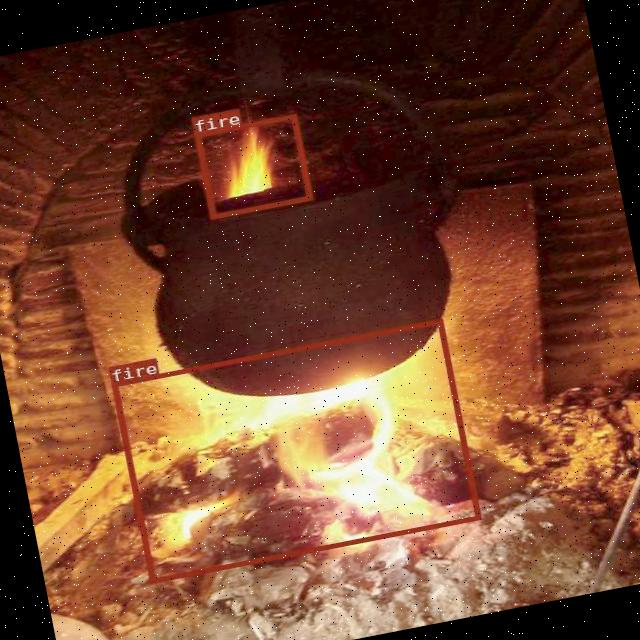fire: (110, 318, 481, 582), (193, 114, 312, 218)
